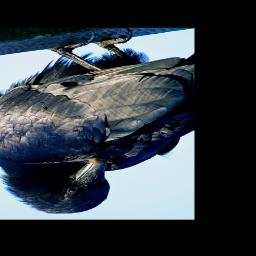Crow: (0, 29, 195, 214)
